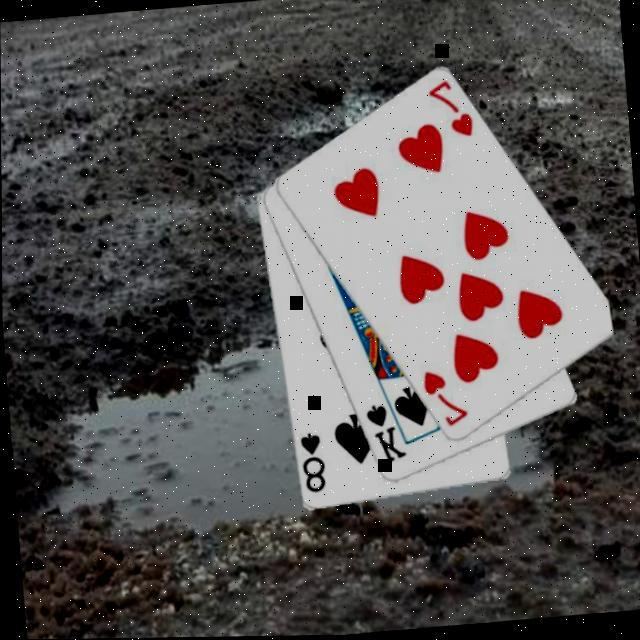7H: (425, 75, 477, 144), (420, 365, 472, 432)
8S: (296, 427, 330, 496)
KS: (362, 399, 409, 469)
